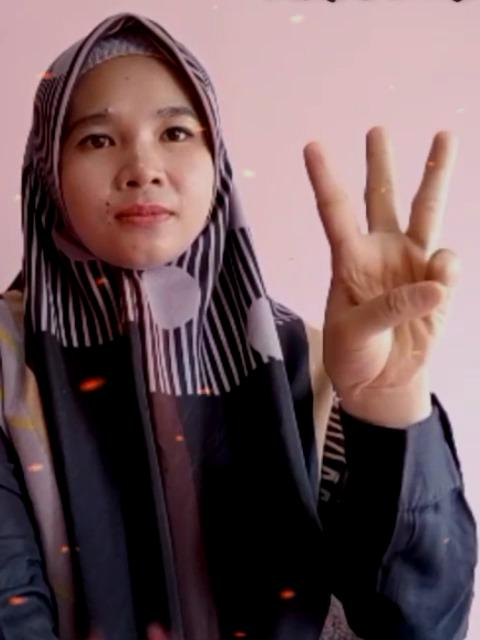W: (296, 116, 466, 394)
